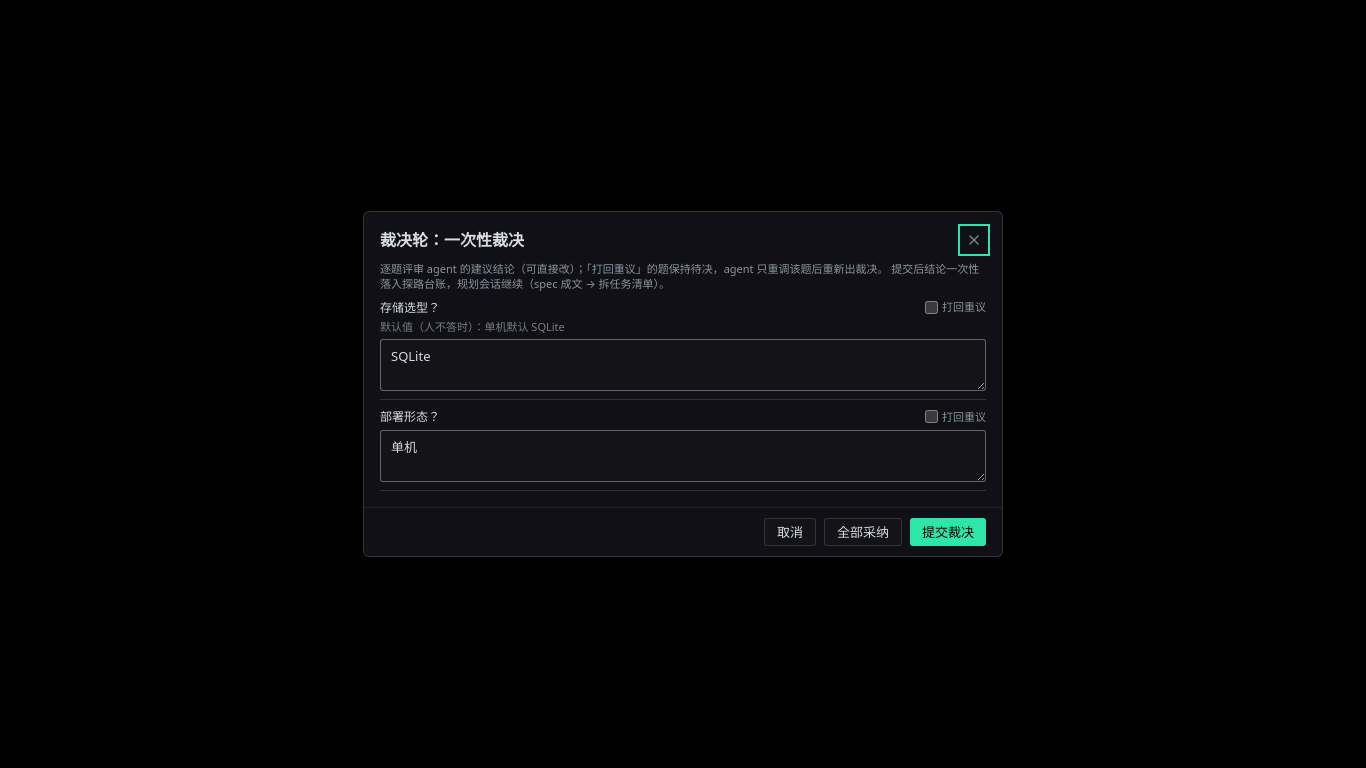
Test: PlanRulingDialog（#467 裁决轮表单） › 提交失败：弹窗保持打开 + 内联错误文案
This screenshot has width=1366, height=768.
Click the button "提交裁决": (948, 532) [910, 518, 986, 546]
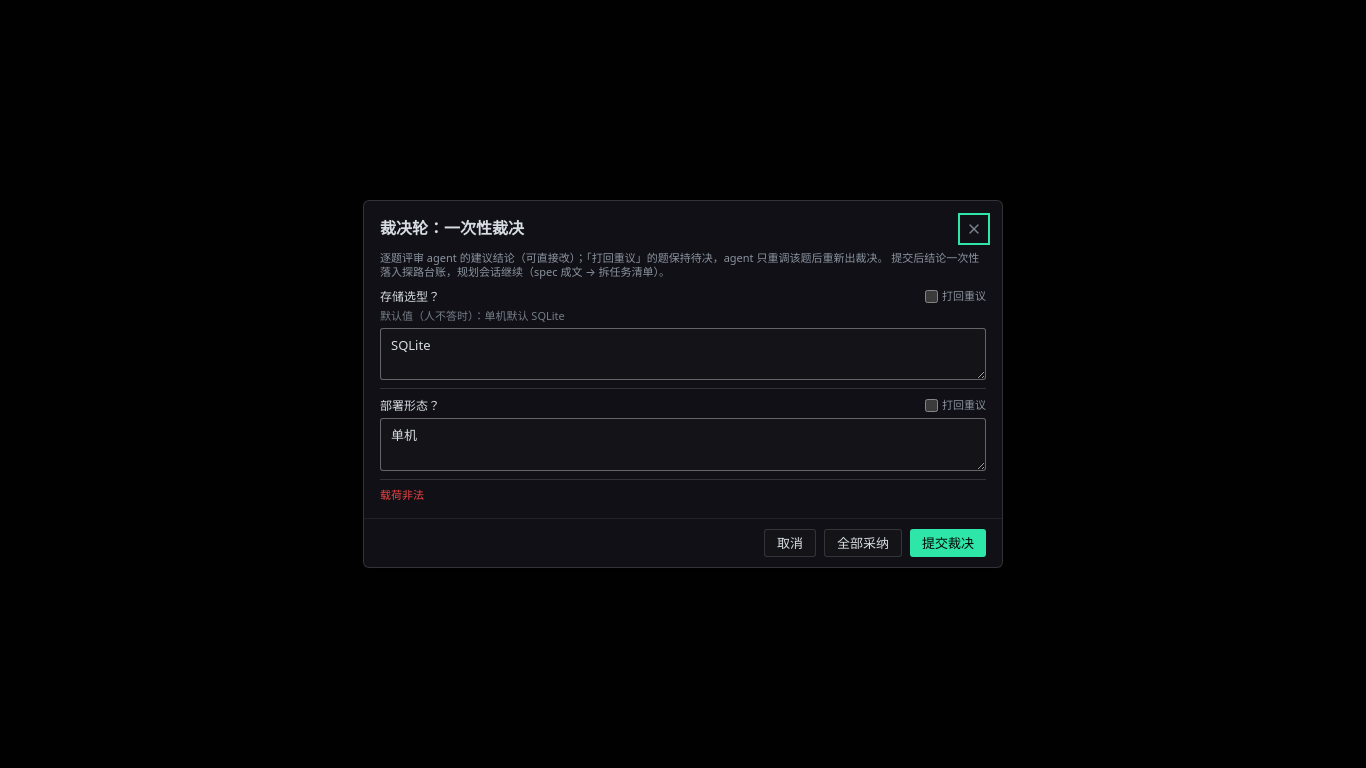
Expected: the button "提交裁决" is shown, [910, 529, 986, 557]
Now the text "载荷非法" is shown, box [380, 487, 424, 502]
